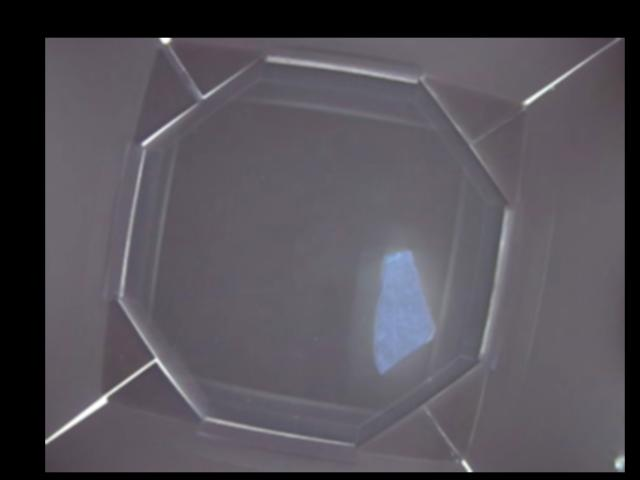China: (373, 250, 437, 371)
